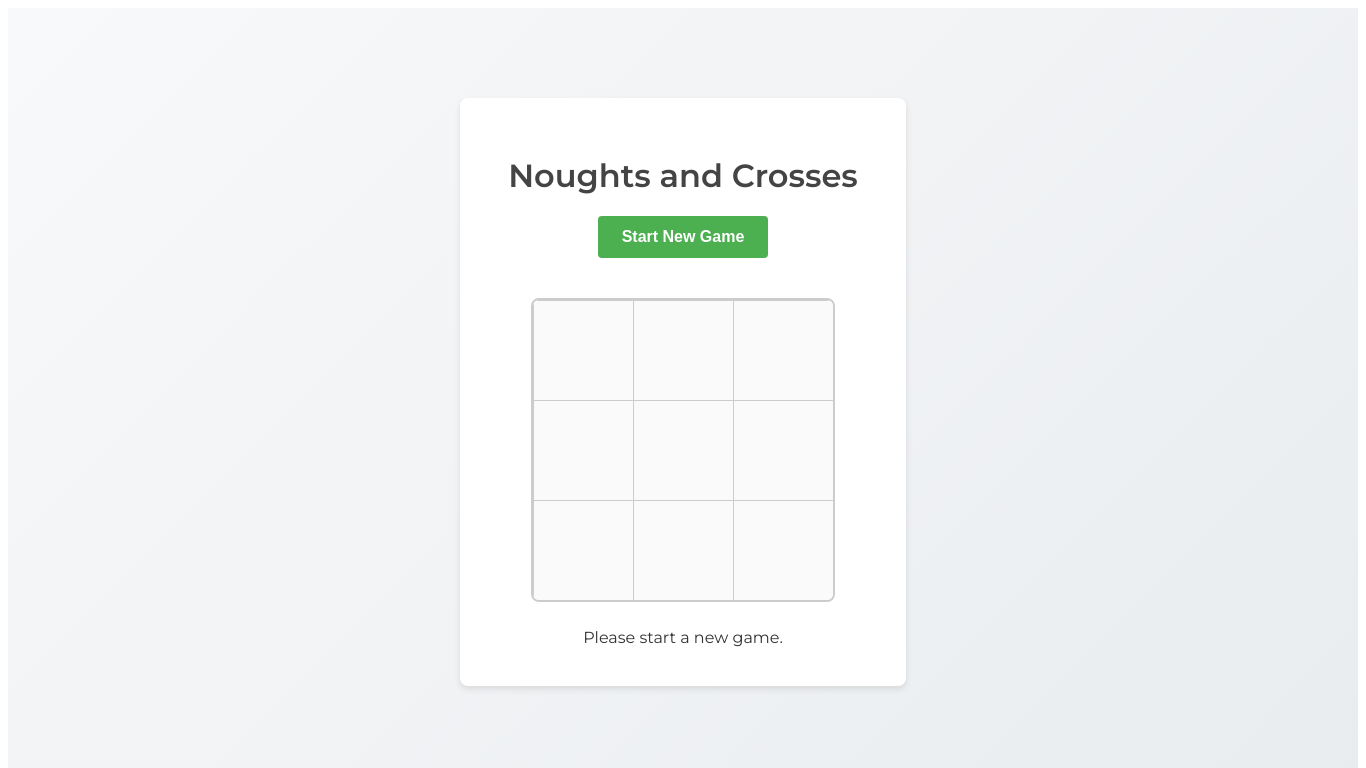
Scenario: App component › should attempt a move when clicking on a square
This screenshot has width=1366, height=768.
Note: Start the game
Step 1. Click the button "Start New Game" → [683, 237], box [598,216,768,258]
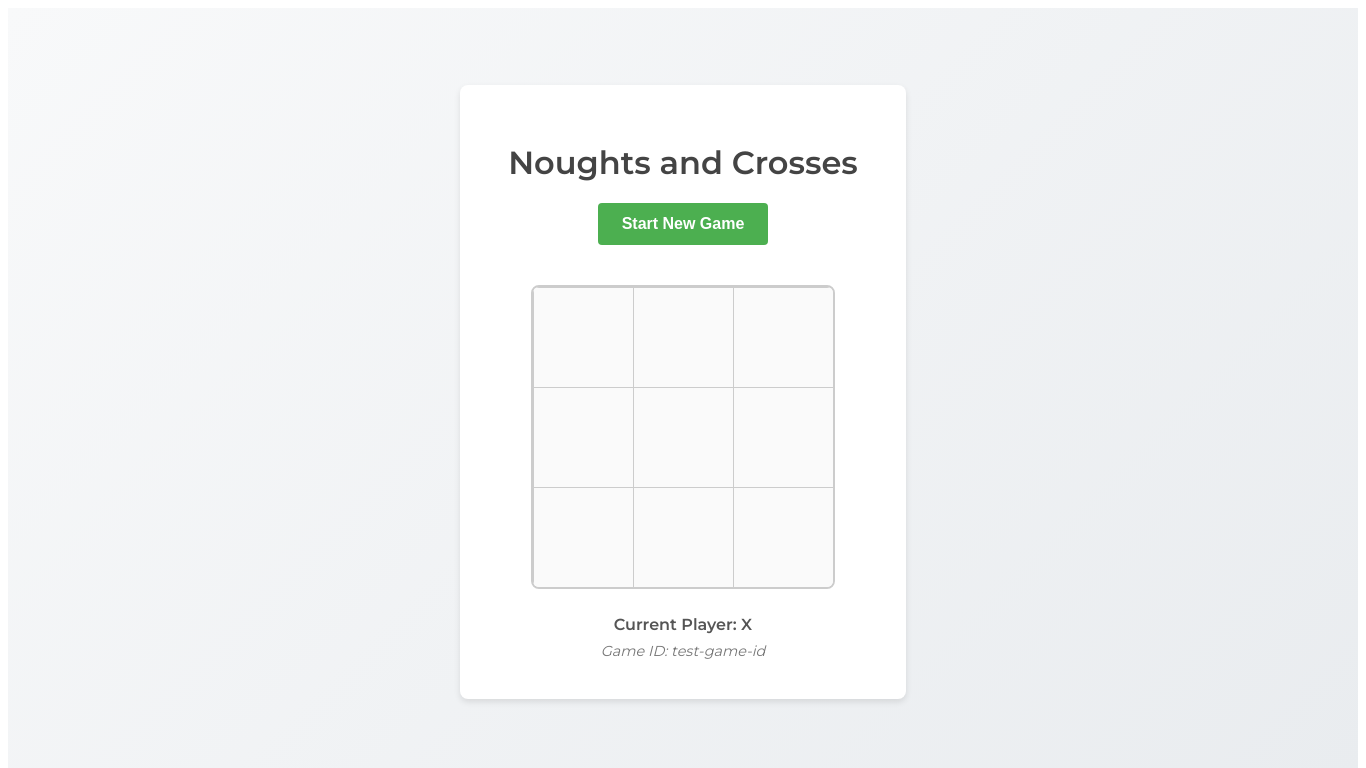
Expected: the text "Game ID: test-game-id" is shown, [601,642,765,660]
Note: Click square 0
Step 2. Click the element with test id "square-0" → [584, 338], box [533,287,635,389]
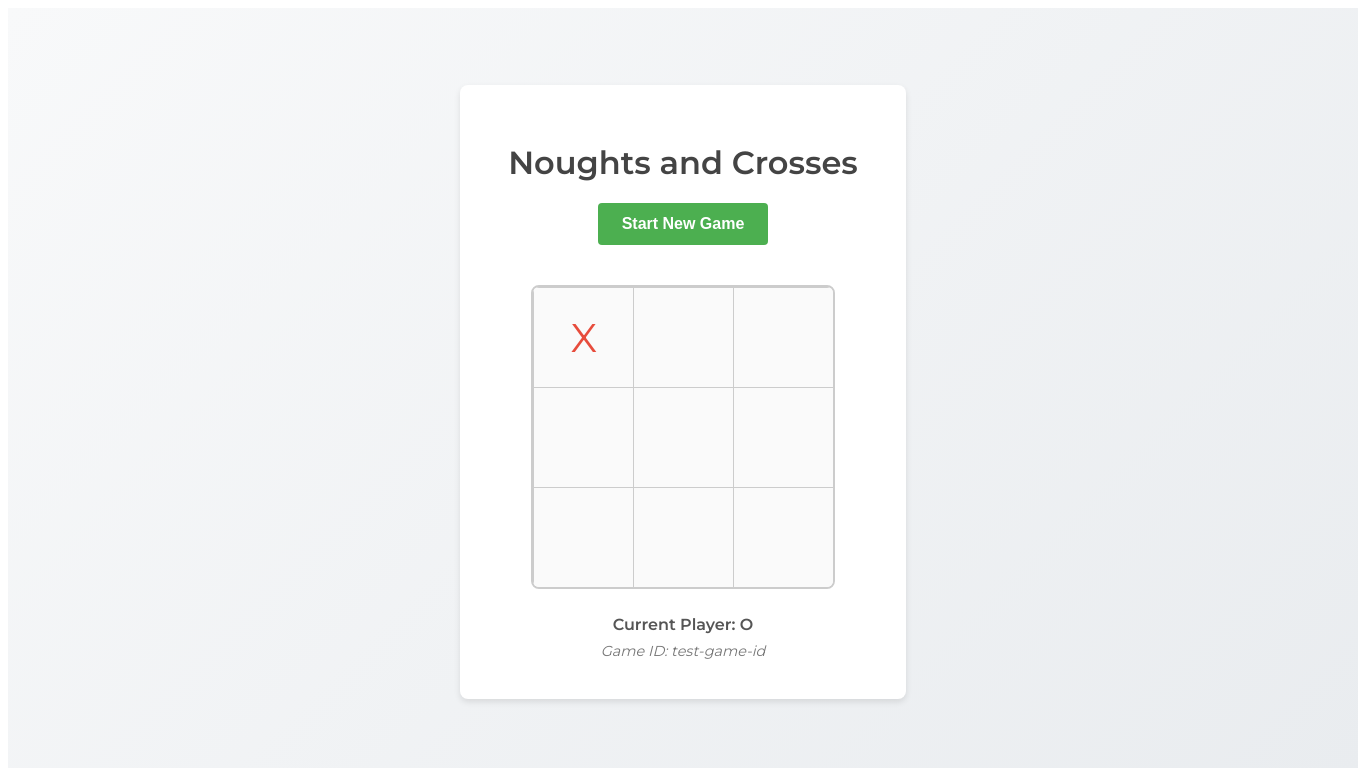
Expected: the text with test id "square-0" reads "X", [571,313,597,362]
